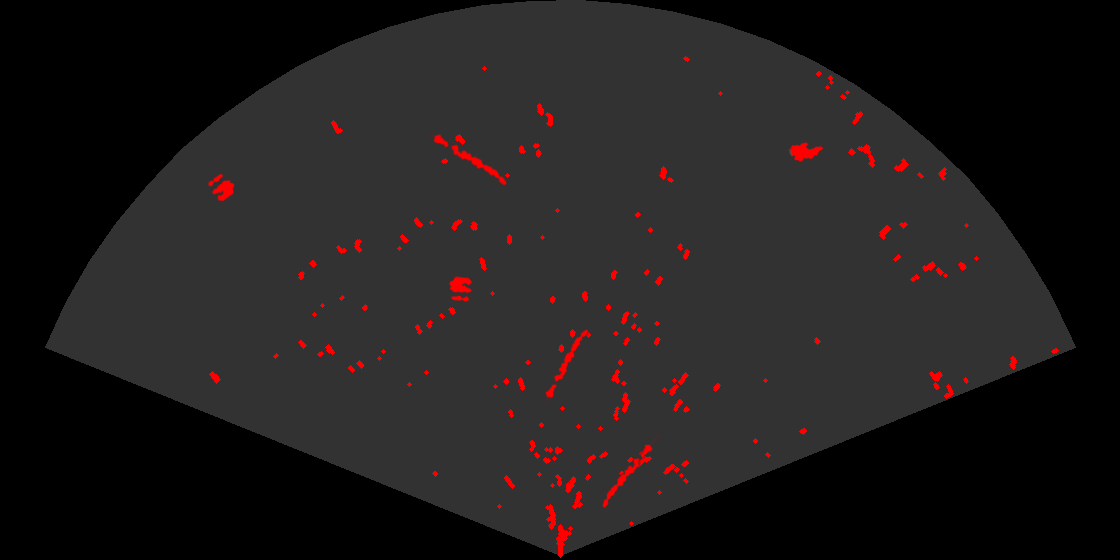AUV: (788, 141, 825, 164)
ball: (207, 172, 236, 203), (448, 275, 474, 303)
chain: (428, 131, 508, 187), (601, 433, 659, 509), (543, 328, 590, 402)
